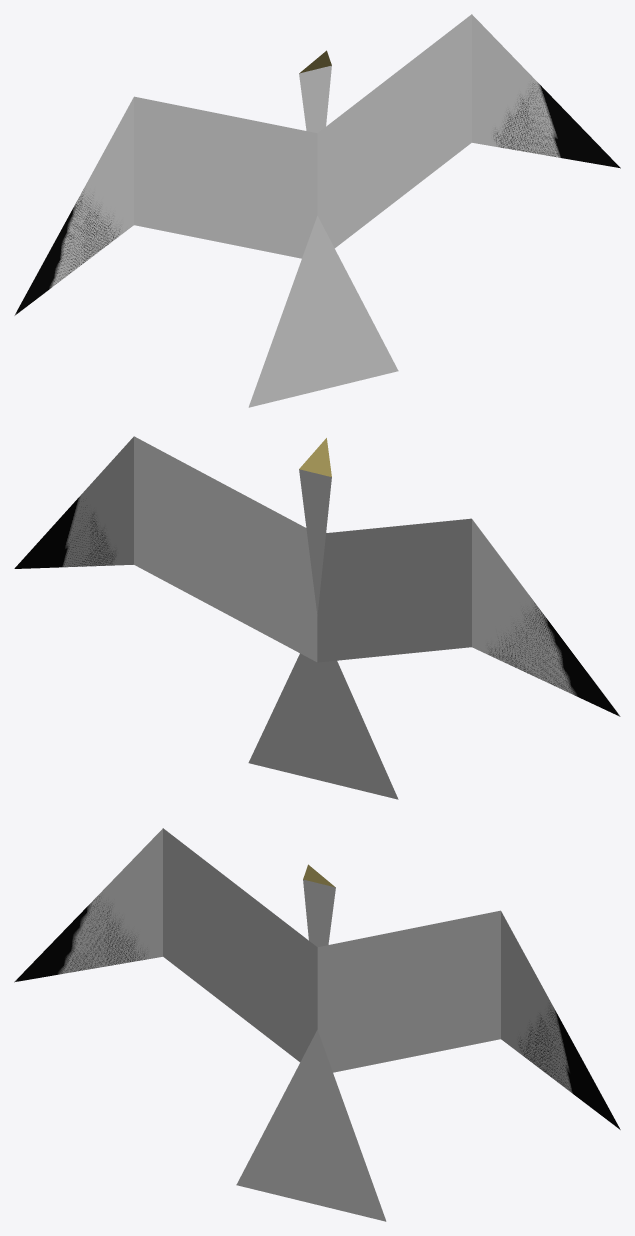
The model's file is seagul_lod2.fbx.
3 renders of one model, top to bottom at view 1: azimuth 30°, elevation 25°; view 2: azimuth 150°, elevation 25°; view 3: azimuth 330°, elevation 25°, orthographic.
Parts seen in each view (by area): view 1: bird_no_armature_LOD2; view 2: bird_no_armature_LOD2; view 3: bird_no_armature_LOD2.
Boxes of the visible parts, left/top/right/bottom form: bird_no_armature_LOD2: left=14, top=14, right=620, bottom=407; bird_no_armature_LOD2: left=14, top=436, right=620, bottom=799; bird_no_armature_LOD2: left=14, top=828, right=620, bottom=1221.
Size of the model in its own units: 5503 by 2959 by 374.
1 material, 1 textured.
